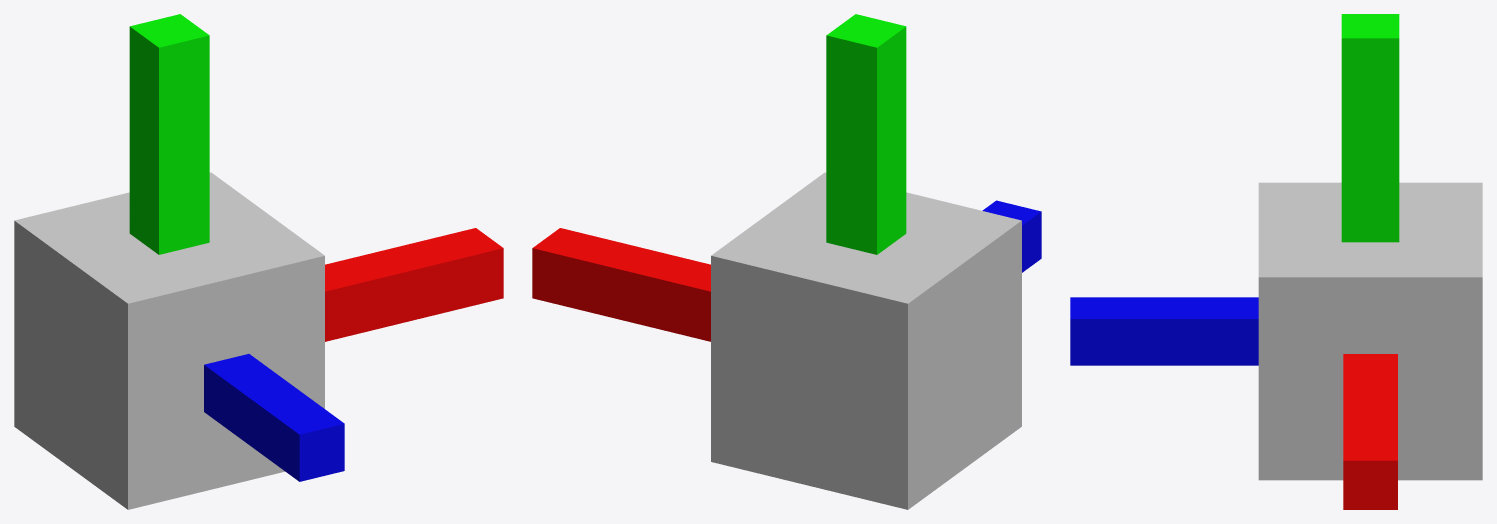
The model's file is cube_multipart.glb.
3 views of the same model, side by side, from view 1: azimuth 30°, elevation 25°; view 2: azimuth 150°, elevation 25°; view 3: azimuth 270°, elevation 25° (orthographic).
Parts seen in each view (by area): view 1: Cube; view 2: Cube; view 3: Cube.
Boxes of the visible parts, <box> form: Cube: <box>14,14,503,509</box>; Cube: <box>532,14,1041,509</box>; Cube: <box>1070,14,1482,509</box>.
Size of the model in its own units: 4.25 by 4.01 by 3.68.
